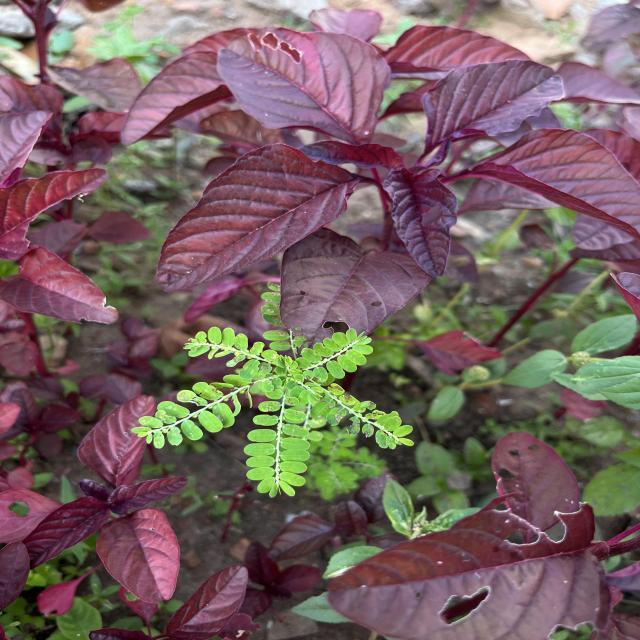Phyllanthus niruri: (304, 380, 417, 452), (129, 382, 242, 450), (244, 394, 313, 498), (183, 324, 284, 382), (292, 328, 375, 382)
